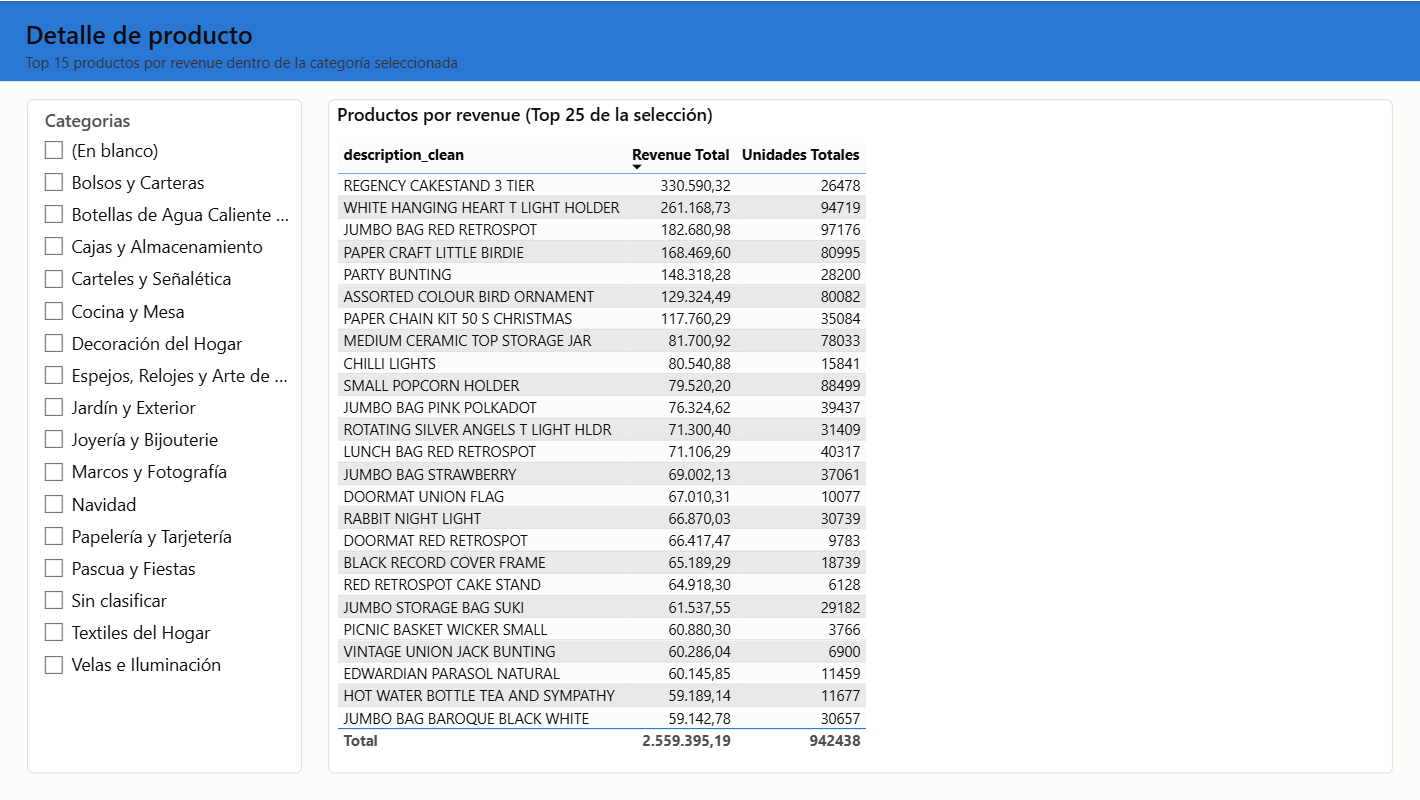

The dashboard page shown, as its layout file describes it:
{"tool":"powerbi","page":{"name":"Detalle de producto","canvas":[1280,720],"ordinal":3},"visuals":[{"type":"shape","box":[0,0,1280,72],"z":0},{"type":"shape","box":[0,71,1280,1],"z":1000},{"type":"textbox","box":[18.4,9.7,619.9,46.5],"z":2000},{"type":"textbox","box":[18.4,41.3,779.7,29.9],"z":3000},{"type":"slicer","fields":{"Values":["dim_producto.categoria_final"]},"box":[24,88,248,608],"z":4000},{"type":"tableEx","title":"Productos por revenue (Top 25 de la selección)","fields":{"Values":["dim_producto.description_clean","Medidas.Revenue Total","Medidas.Unidades Totales"]},"box":[296,88,960,608],"z":5000}]}

Visuals, with their boxes in screenshot pixels (x1, y1, x2, y2), scaled from the page's 1280x720 canvas onto the 1420x800 screenshot:
shape: box=[0, 0, 1419, 80]
shape: box=[0, 79, 1419, 80]
textbox: box=[20, 11, 708, 62]
textbox: box=[20, 46, 885, 79]
slicer - dim_producto.categoria_final: box=[27, 98, 302, 773]
"Productos por revenue (Top 25 de la selección)" tableEx: box=[328, 98, 1393, 773]
